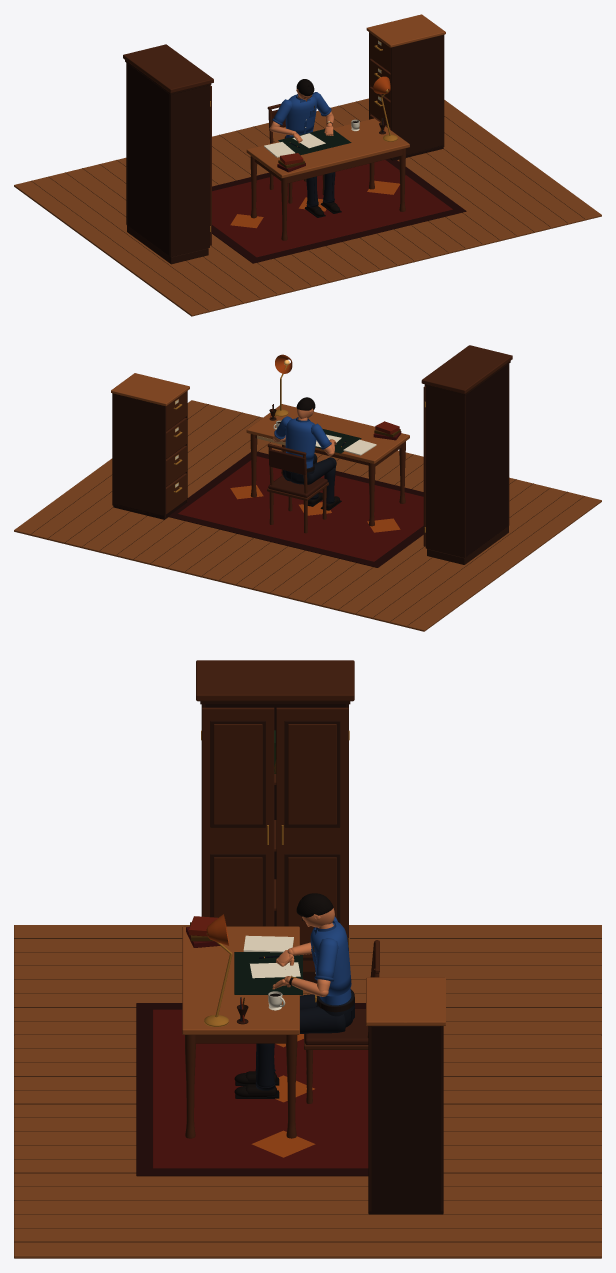
The model's file is atelier-personnage.obj.
3 views of the same model, one above another, from view 1: azimuth 30°, elevation 25°; view 2: azimuth 150°, elevation 25°; view 3: azimuth 270°, elevation 25° (orthographic). The views are drawn at different scales.
Parts seen in each view (by area): view 1: parquet, tapis_champ, flanc, fond, flanc_classeur, plateau, tapis_bordure, corniche, dessus_classeur, pied_bureau, torse, ceinture_arriere (+5 smaller); view 2: parquet, tapis_champ, flanc, fond, flanc_classeur, tapis_bordure, plateau, corniche, dessus_classeur, pied_bureau, torse, tapis_losange (+9 smaller); view 3: parquet, tapis_champ, fond_classeur, porte_gauche_plate_bande, plateau, porte_droite_plate_bande, corniche, porte_droite_panneau, porte_gauche_panneau, tapis_bordure, dessus_classeur, porte_droite_cadre (+13 smaller).
Part boxes in pixels (x1=…): parquet: x1=14, y1=98, x2=601, y2=316; tapis_champ: x1=212, y1=160, x2=452, y2=257; flanc: x1=126, y1=63, x2=209, y2=257; fond: x1=127, y1=64, x2=169, y2=256; flanc_classeur: x1=369, y1=32, x2=444, y2=159; plateau: x1=246, y1=118, x2=409, y2=178; tapis_bordure: x1=212, y1=158, x2=466, y2=263; corniche: x1=123, y1=44, x2=213, y2=92; dessus_classeur: x1=366, y1=14, x2=445, y2=47; pied_bureau: x1=250, y1=148, x2=405, y2=240; torse: x1=285, y1=94, x2=316, y2=135; ceinture_arriere: x1=287, y1=149, x2=402, y2=183; parquet: x1=14, y1=400, x2=601, y2=631; tapis_champ: x1=178, y1=456, x2=423, y2=561; flanc: x1=425, y1=364, x2=509, y2=557; fond: x1=466, y1=364, x2=508, y2=556; flanc_classeur: x1=112, y1=391, x2=187, y2=517; tapis_bordure: x1=168, y1=451, x2=423, y2=567; plateau: x1=246, y1=404, x2=409, y2=463; corniche: x1=421, y1=345, x2=512, y2=393; dessus_classeur: x1=111, y1=373, x2=189, y2=406; pied_bureau: x1=250, y1=434, x2=405, y2=526; torse: x1=285, y1=418, x2=316, y2=461; tapis_losange: x1=230, y1=485, x2=400, y2=532; parquet: x1=14, y1=925, x2=601, y2=1258; tapis_champ: x1=153, y1=1009, x2=368, y2=1168; fond_classeur: x1=371, y1=1026, x2=440, y2=1211; porte_gauche_plate_bande: x1=213, y1=724, x2=262, y2=926; plateau: x1=182, y1=926, x2=299, y2=1034; porte_droite_plate_bande: x1=288, y1=724, x2=336, y2=957; corniche: x1=196, y1=660, x2=354, y2=701; porte_droite_panneau: x1=276, y1=707, x2=348, y2=971; porte_gauche_panneau: x1=202, y1=707, x2=274, y2=926; tapis_bordure: x1=136, y1=1003, x2=368, y2=1176; dessus_classeur: x1=366, y1=977, x2=445, y2=1025; porte_droite_cadre: x1=284, y1=720, x2=340, y2=960.
Size of the model in its own units: 4.8 by 1.99 by 3.6.
